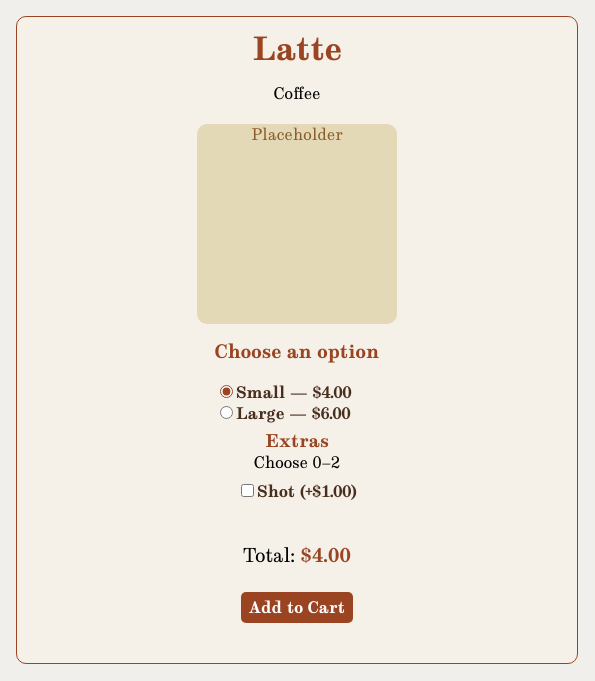
it: ProductPage › selects modifier and updates total price
Expected: the heading "Latte" is shown, [252, 27, 342, 69]
Click the checkbox labelled "Shot (+$1.00)" at (247, 490), box [241, 484, 254, 497]
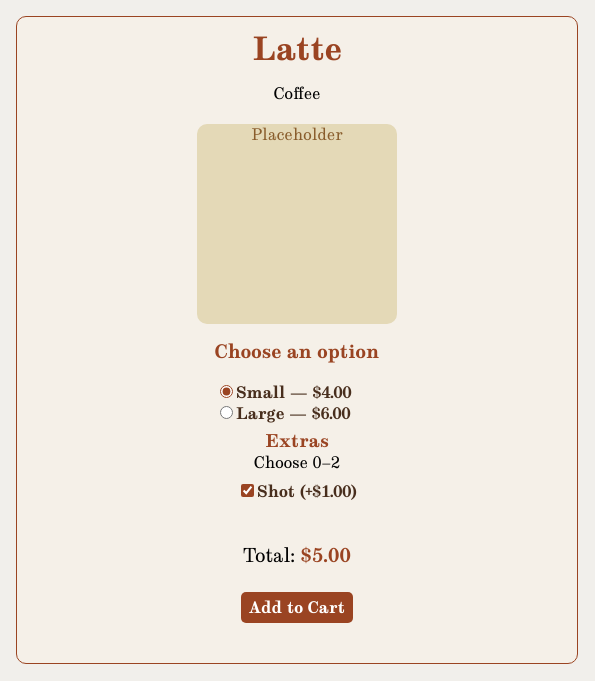
Expected: the text "$5.00" is shown, [300, 542, 352, 568]
